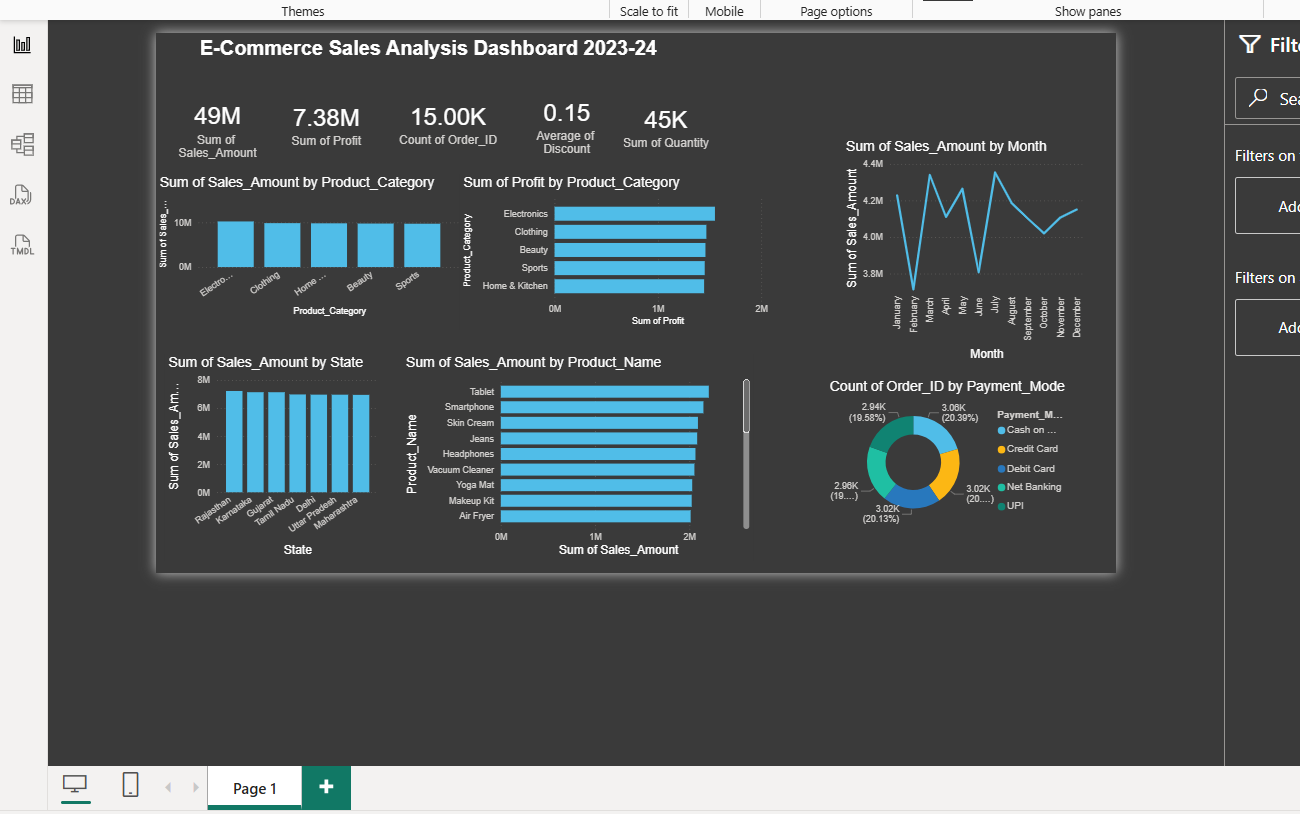

The dashboard page shown, as its layout file describes it:
{"tool":"powerbi","page":{"name":"Page 1","canvas":[1280,720],"ordinal":0},"visuals":[{"type":"card","fields":{"Values":["Sum(ecommerce_sales_dataset_15000_r.Sales_Amount)"]},"box":[0,36.7,164.6,164.6],"z":0},{"type":"card","fields":{"Values":["Sum(ecommerce_sales_dataset_15000_r.Profit)"]},"box":[148.3,47.6,157.8,144.2],"z":1000},{"type":"card","fields":{"Values":["Sum(ecommerce_sales_dataset_15000_r.Quantity)"]},"box":[606.8,54.4,146.9,137.4],"z":2000},{"type":"card","fields":{"Values":["Avg(ecommerce_sales_dataset_15000_r.Discount)"]},"box":[472.1,36.7,152.4,155.1],"z":3000},{"type":"card","fields":{"Values":["CountNonNull(ecommerce_sales_dataset_15000_r.Order_ID)"]},"box":[306.1,49,166,142.9],"z":4000},{"type":"clusteredColumnChart","fields":{"Category":["ecommerce_sales_dataset_15000_r.Product_Category"],"Y":["Sum(ecommerce_sales_dataset_15000_r.Sales_Amount)"]},"box":[0,212.9,432.9,195.7],"z":5000},{"type":"lineChart","fields":{"Category":["ecommerce_sales_dataset_15000_r.Order_Date.Variation.Date Hierarchy.Month"],"Y":["Sum(ecommerce_sales_dataset_15000_r.Sales_Amount)"]},"box":[938.6,78.6,327.1,302.9],"z":6000},{"type":"clusteredColumnChart","fields":{"Category":["ecommerce_sales_dataset_15000_r.State"],"Y":["Sum(ecommerce_sales_dataset_15000_r.Sales_Amount)"]},"box":[12.9,428.6,330,274.3],"z":7000},{"type":"clusteredBarChart","fields":{"Category":["ecommerce_sales_dataset_15000_r.Product_Name"],"Y":["Sum(ecommerce_sales_dataset_15000_r.Sales_Amount)"]},"box":[388.6,428.6,467.1,274.3],"z":8000},{"type":"clusteredBarChart","fields":{"Category":["ecommerce_sales_dataset_15000_r.Product_Category"],"Y":["Sum(ecommerce_sales_dataset_15000_r.Profit)"]},"box":[471.4,201.4,435.7,207.1],"z":9000},{"type":"donutChart","fields":{"Category":["ecommerce_sales_dataset_15000_r.Payment_Mode"],"Y":["CountNonNull(ecommerce_sales_dataset_15000_r.Order_ID)"]},"box":[938.6,428.6,328.6,274.3],"z":10000},{"type":"textbox","box":[305.7,0,627.1,48.6],"z":11000}]}

Visuals, with their boxes on the page's 1280x720 design canvas (x1, y1, x2, y2). These are canvas units, not pixel positions in the 1300x814 screenshot, which may show the page scaled, cropped or inside an application window:
card - Sum(ecommerce_sales_dataset_15000_r.Sales_Amount): [x1=0, y1=37, x2=165, y2=201]
card - Sum(ecommerce_sales_dataset_15000_r.Profit): [x1=148, y1=48, x2=306, y2=192]
card - Sum(ecommerce_sales_dataset_15000_r.Quantity): [x1=607, y1=54, x2=754, y2=192]
card - Avg(ecommerce_sales_dataset_15000_r.Discount): [x1=472, y1=37, x2=624, y2=192]
card - CountNonNull(ecommerce_sales_dataset_15000_r.Order_ID): [x1=306, y1=49, x2=472, y2=192]
clusteredColumnChart - ecommerce_sales_dataset_15000_r.Product_Category x Sum(ecommerce_sales_dataset_15000_r.Sales_Amount): [x1=0, y1=213, x2=433, y2=409]
lineChart - ecommerce_sales_dataset_15000_r.Order_Date.Variation.Date Hierarchy.Month x Sum(ecommerce_sales_dataset_15000_r.Sales_Amount): [x1=939, y1=79, x2=1266, y2=382]
clusteredColumnChart - ecommerce_sales_dataset_15000_r.State x Sum(ecommerce_sales_dataset_15000_r.Sales_Amount): [x1=13, y1=429, x2=343, y2=703]
clusteredBarChart - ecommerce_sales_dataset_15000_r.Product_Name x Sum(ecommerce_sales_dataset_15000_r.Sales_Amount): [x1=389, y1=429, x2=856, y2=703]
clusteredBarChart - ecommerce_sales_dataset_15000_r.Product_Category x Sum(ecommerce_sales_dataset_15000_r.Profit): [x1=471, y1=201, x2=907, y2=408]
donutChart - ecommerce_sales_dataset_15000_r.Payment_Mode x CountNonNull(ecommerce_sales_dataset_15000_r.Order_ID): [x1=939, y1=429, x2=1267, y2=703]
textbox: [x1=306, y1=0, x2=933, y2=49]
